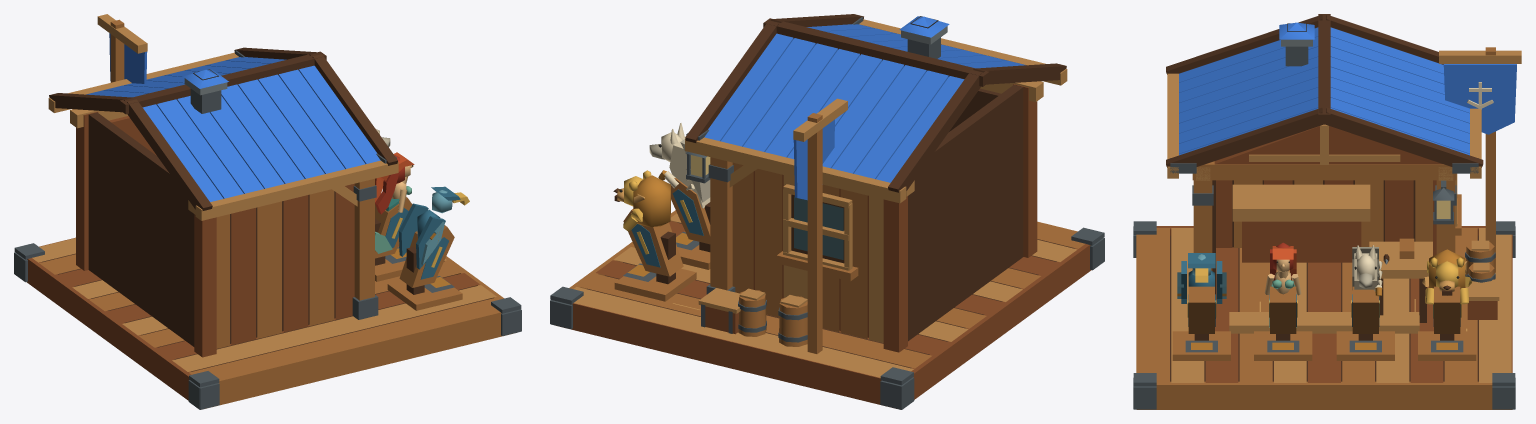
3 views of the same model, side by side, from view 1: azimuth 30°, elevation 25°; view 2: azimuth 150°, elevation 25°; view 3: azimuth 270°, elevation 25° (orthographic). The views are drawn at different scales.
Visible parts, largest first — view 1: Figurehead Merchant; view 2: Figurehead Merchant; view 3: Figurehead Merchant.
Boxes of the visible parts, <box> form: Figurehead Merchant: <box>14,14,521,409</box>; Figurehead Merchant: <box>550,14,1104,409</box>; Figurehead Merchant: <box>1133,14,1521,409</box>.
Size of the model in its own units: 1.67 by 1.3 by 1.69.
